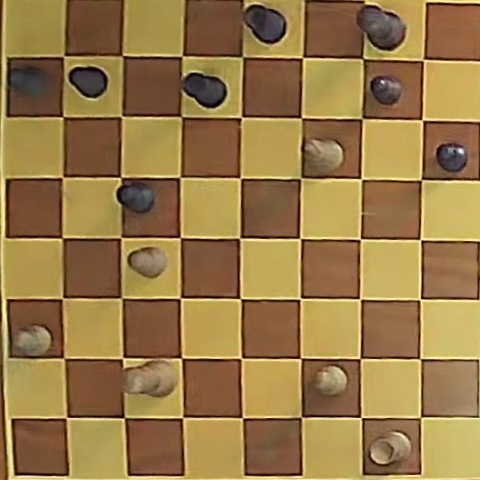black-king: (357, 5, 406, 50)
black-pawn: (69, 66, 108, 99), (9, 66, 48, 97), (117, 182, 155, 213), (371, 75, 403, 105), (436, 143, 467, 172)
black-rook: (244, 4, 287, 44), (182, 72, 226, 108)
white-bishop: (304, 138, 344, 173)
white-king: (124, 360, 177, 396)
white-pawn: (128, 246, 167, 278), (13, 325, 52, 356), (314, 365, 347, 395)
white-rook: (369, 432, 411, 466)
